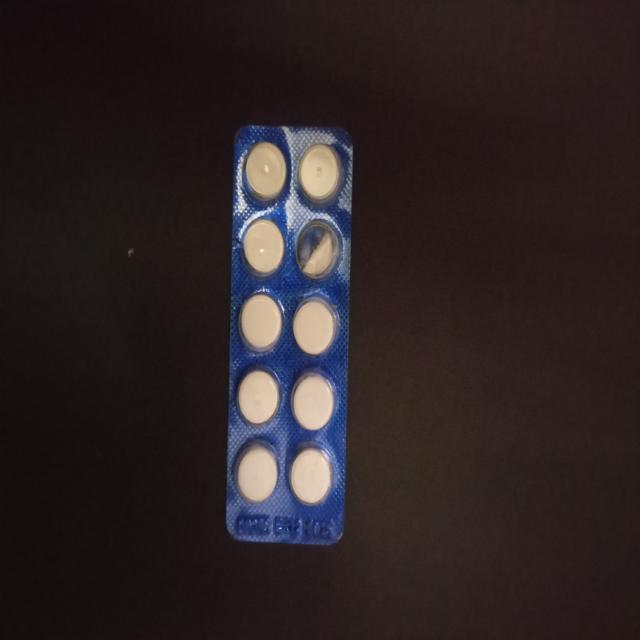defect: (294, 217, 344, 283)
